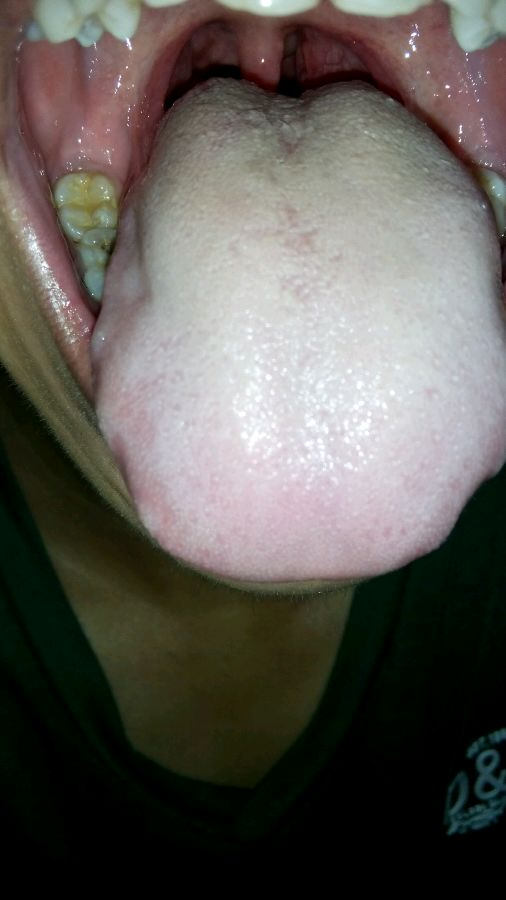baitaishe: (84, 77, 506, 581)
chihenshe: (84, 205, 149, 529)
pangdashe: (84, 77, 506, 581)
